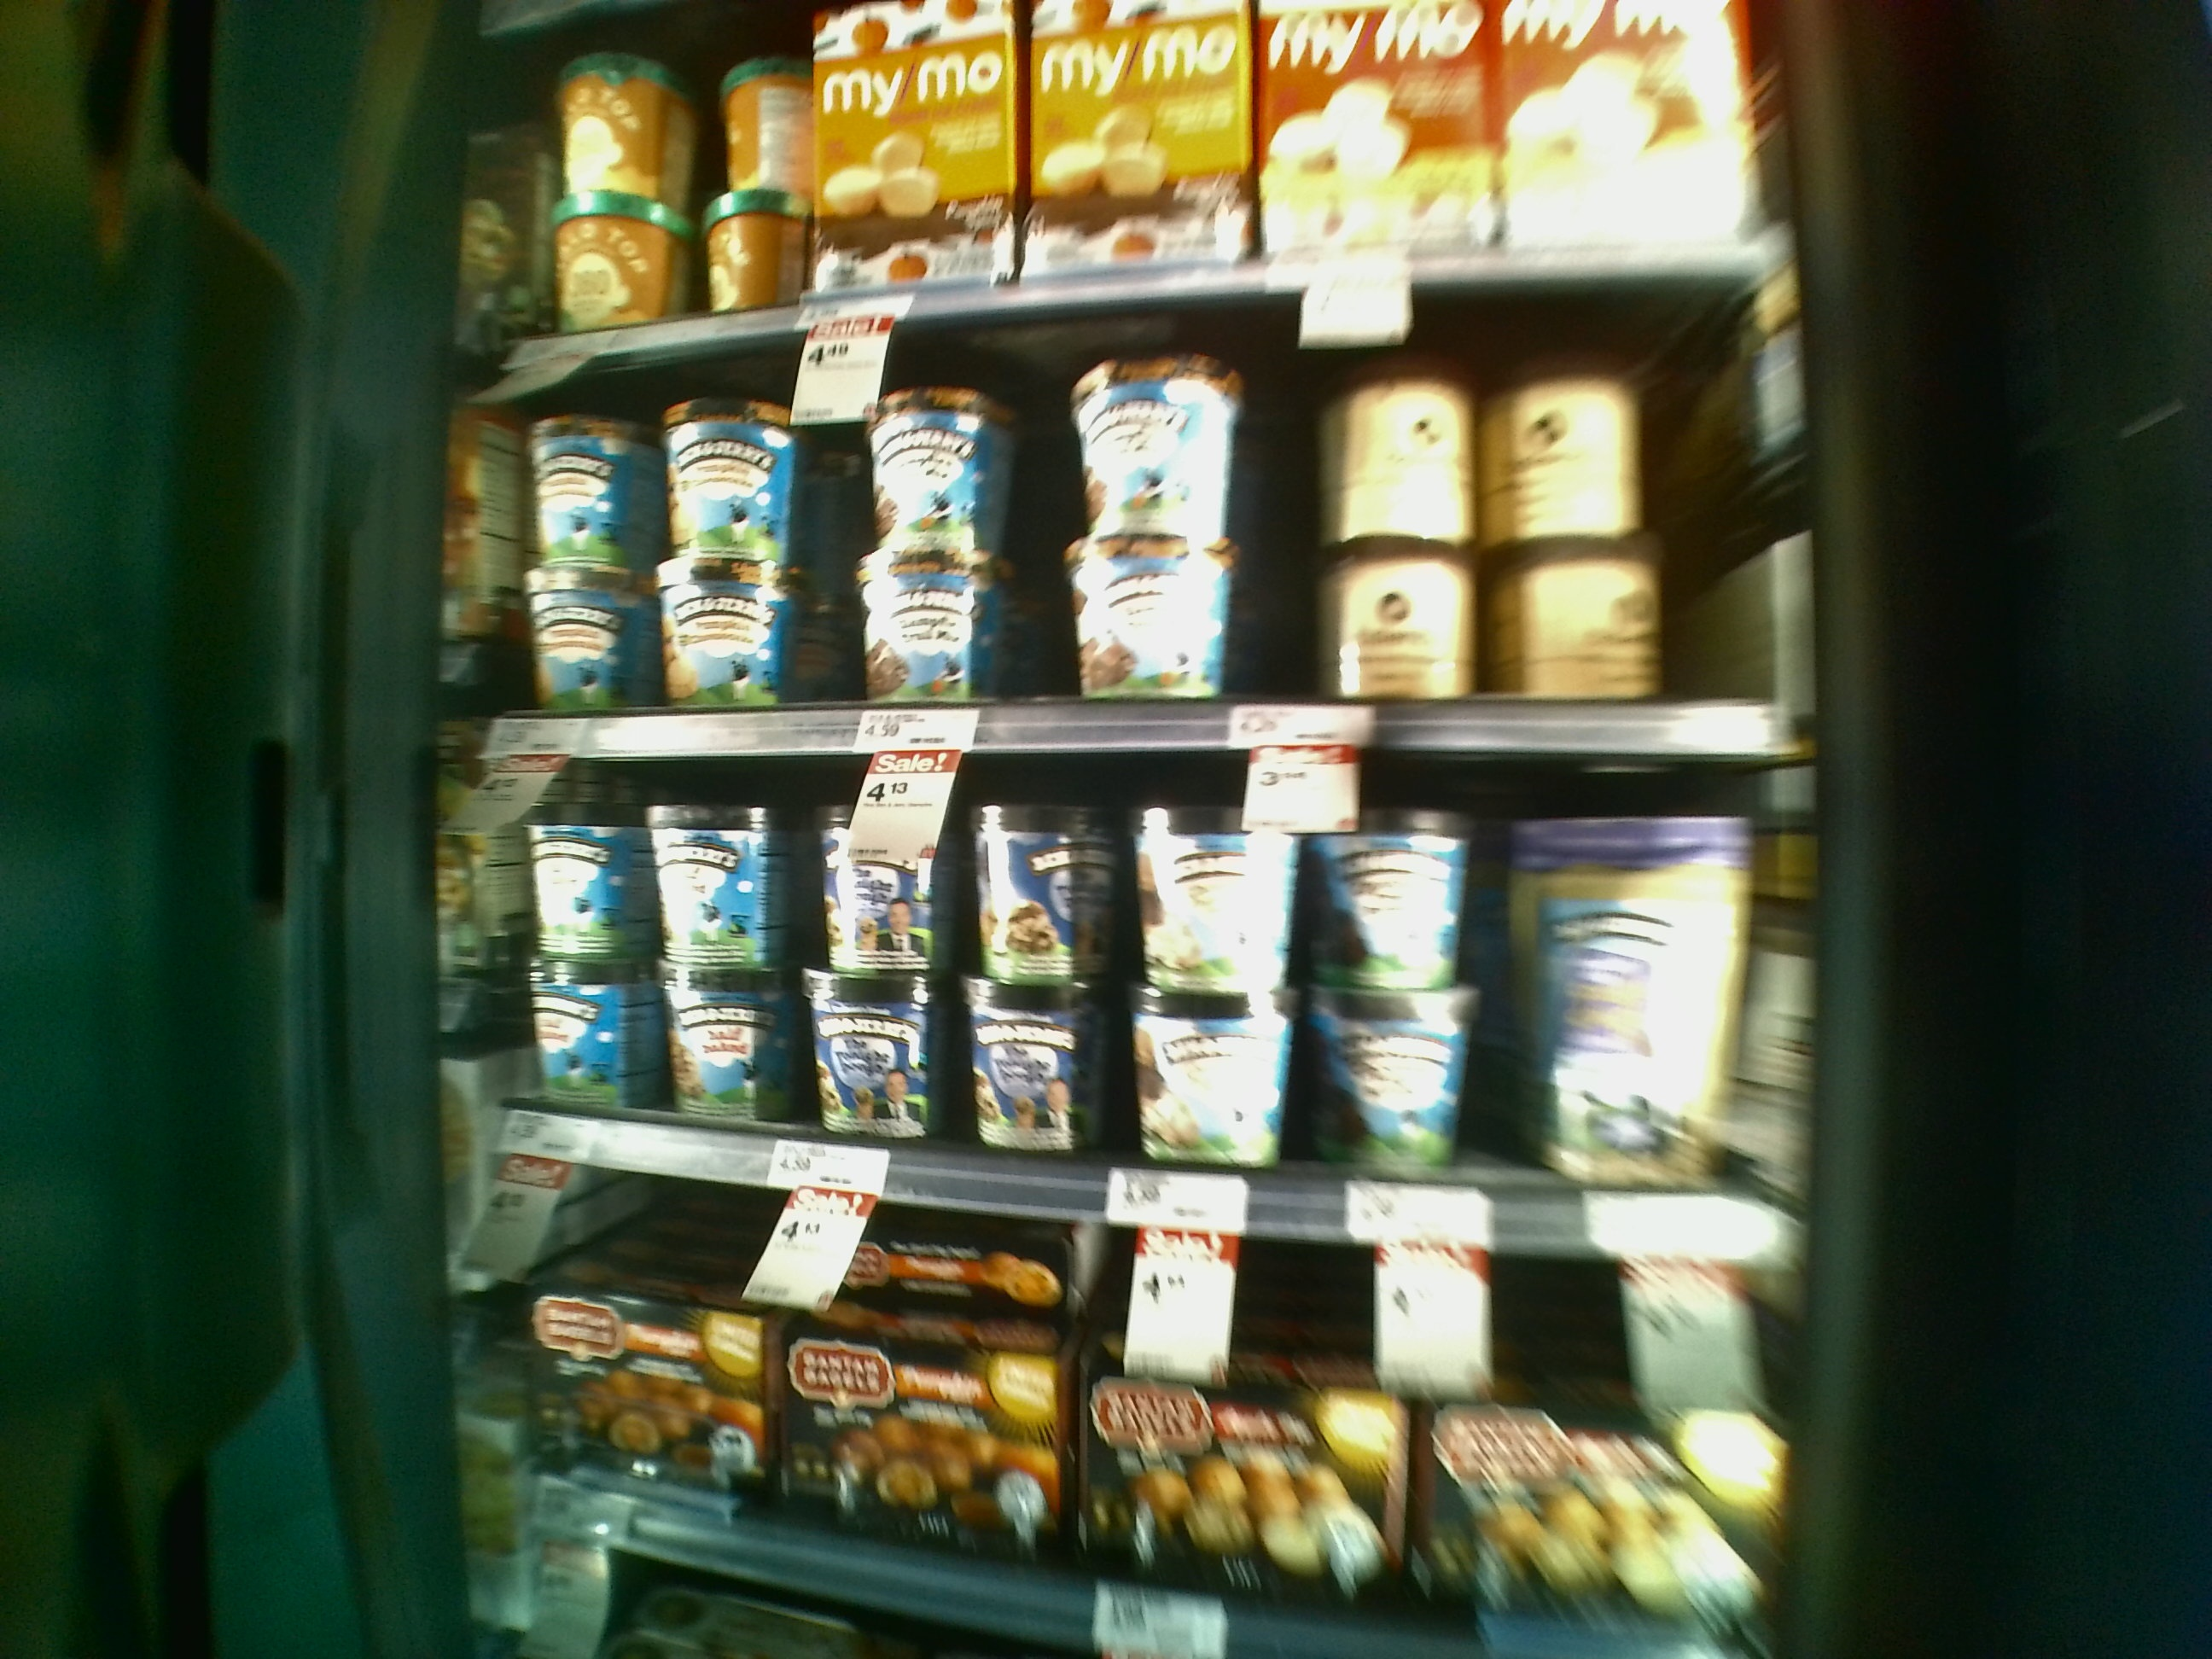shelf: (495, 716, 1801, 1255), (500, 326, 1778, 723)
